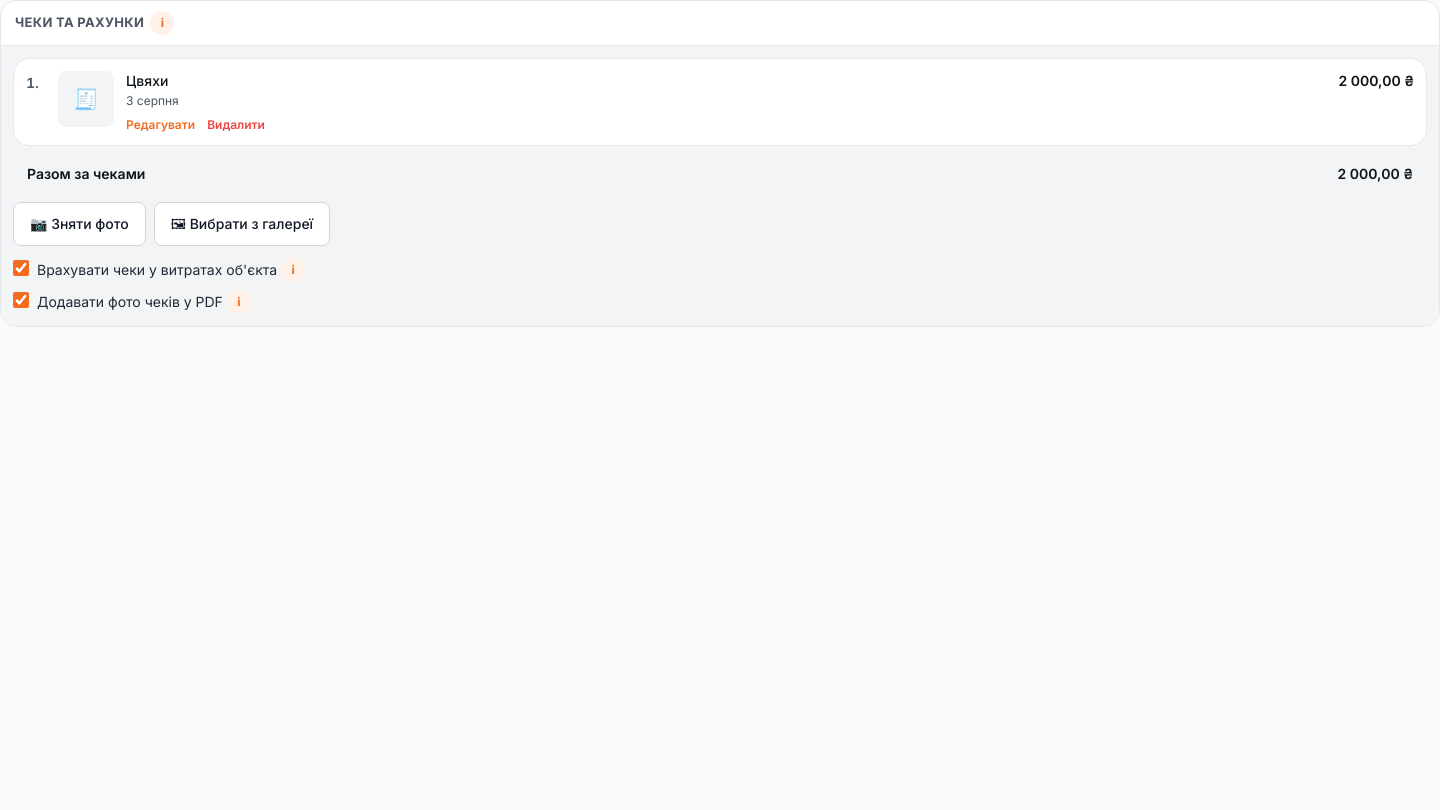
Test: ActReceiptsSection — an unreadable amount is refused, never billed as zero (P-35) › a return that does not read says so, instead of passing the server cap as 0 vs 0
The width and height of the screenshot is (1440, 810).
Step 1. Click the button "Редагувати" → (161, 125), box left=126, top=117, right=195, bottom=133
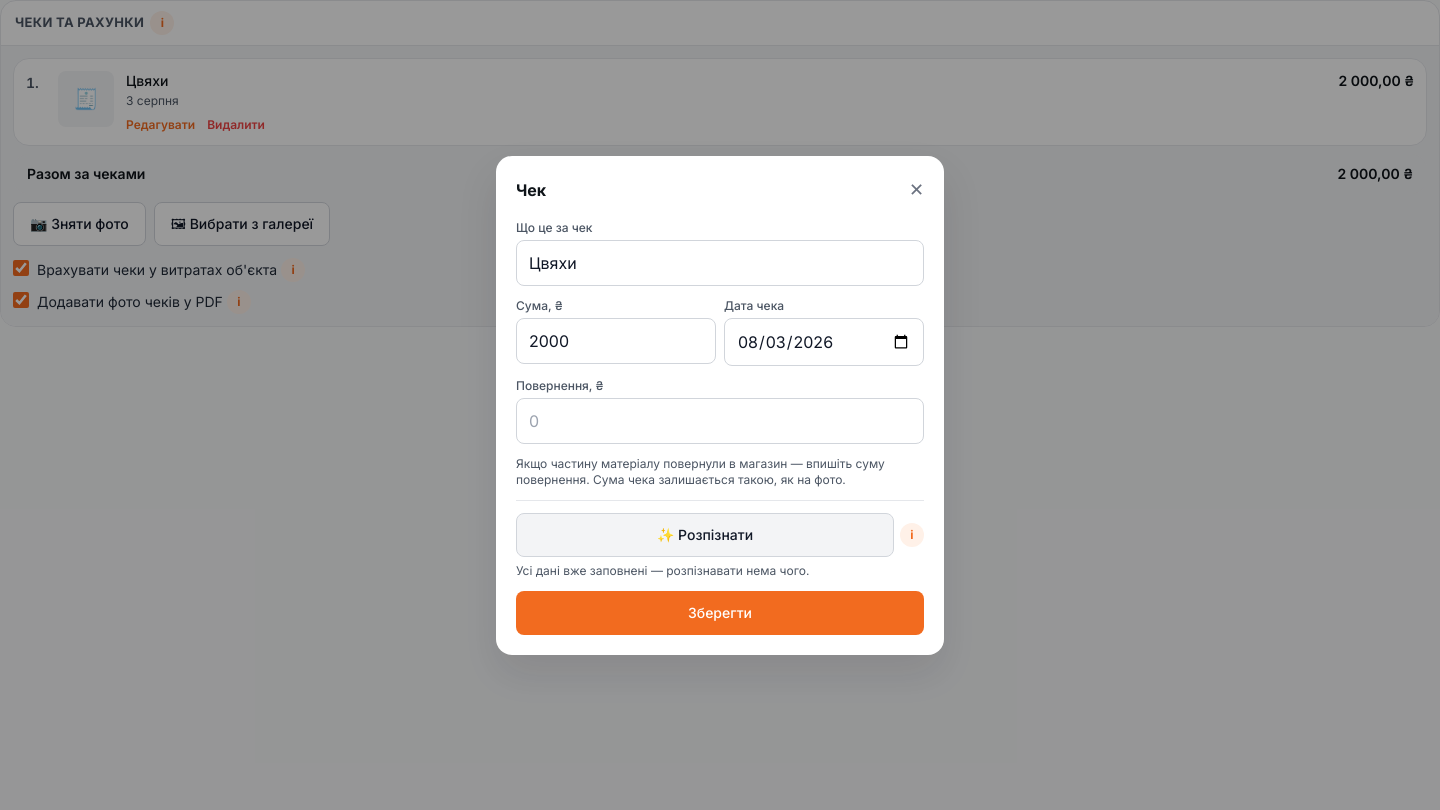
Step 2. Clear the field showing "2000" → (616, 340), box left=516, top=318, right=716, bottom=364
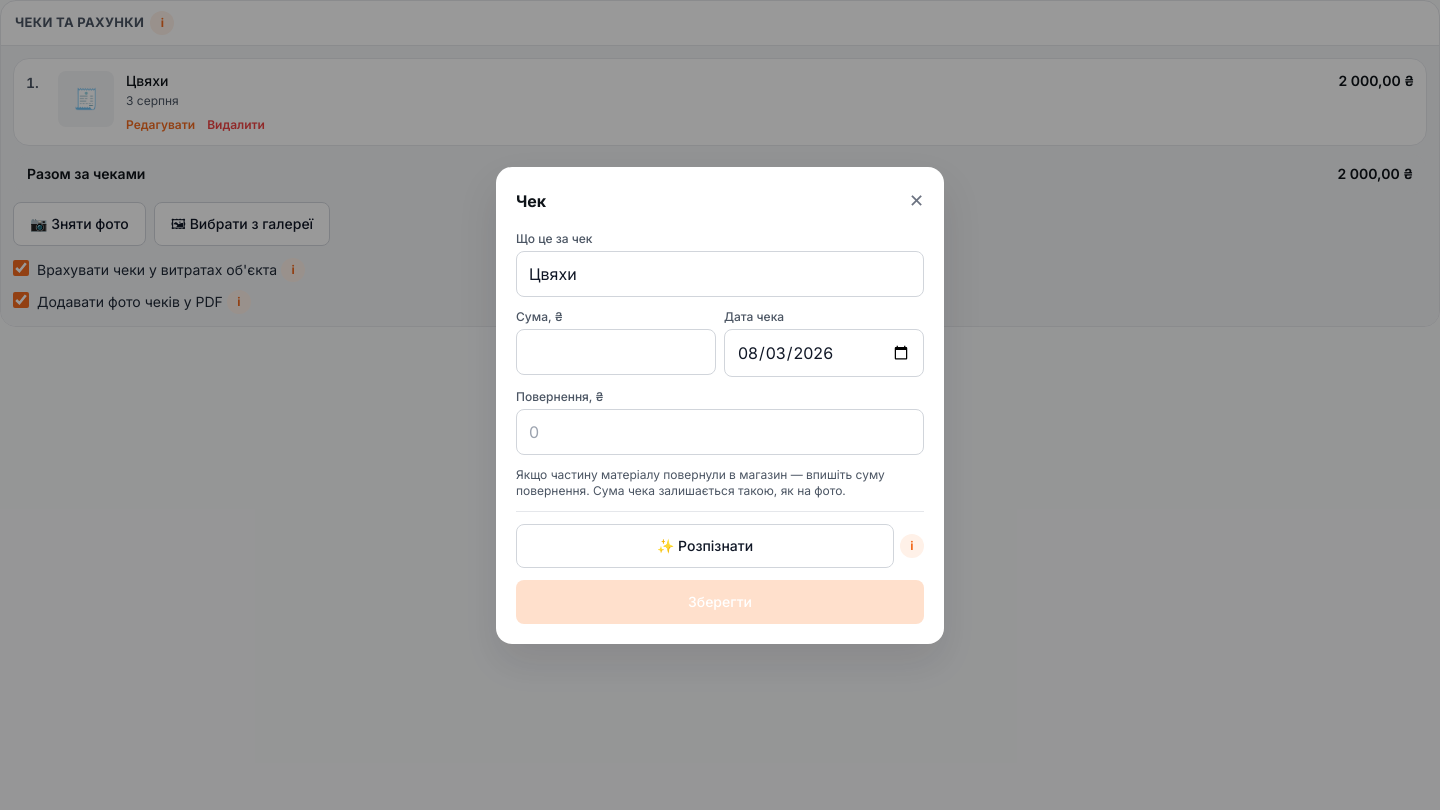
Step 3. Type "5о0" into the field with placeholder "0" → (720, 432), box left=516, top=408, right=924, bottom=454
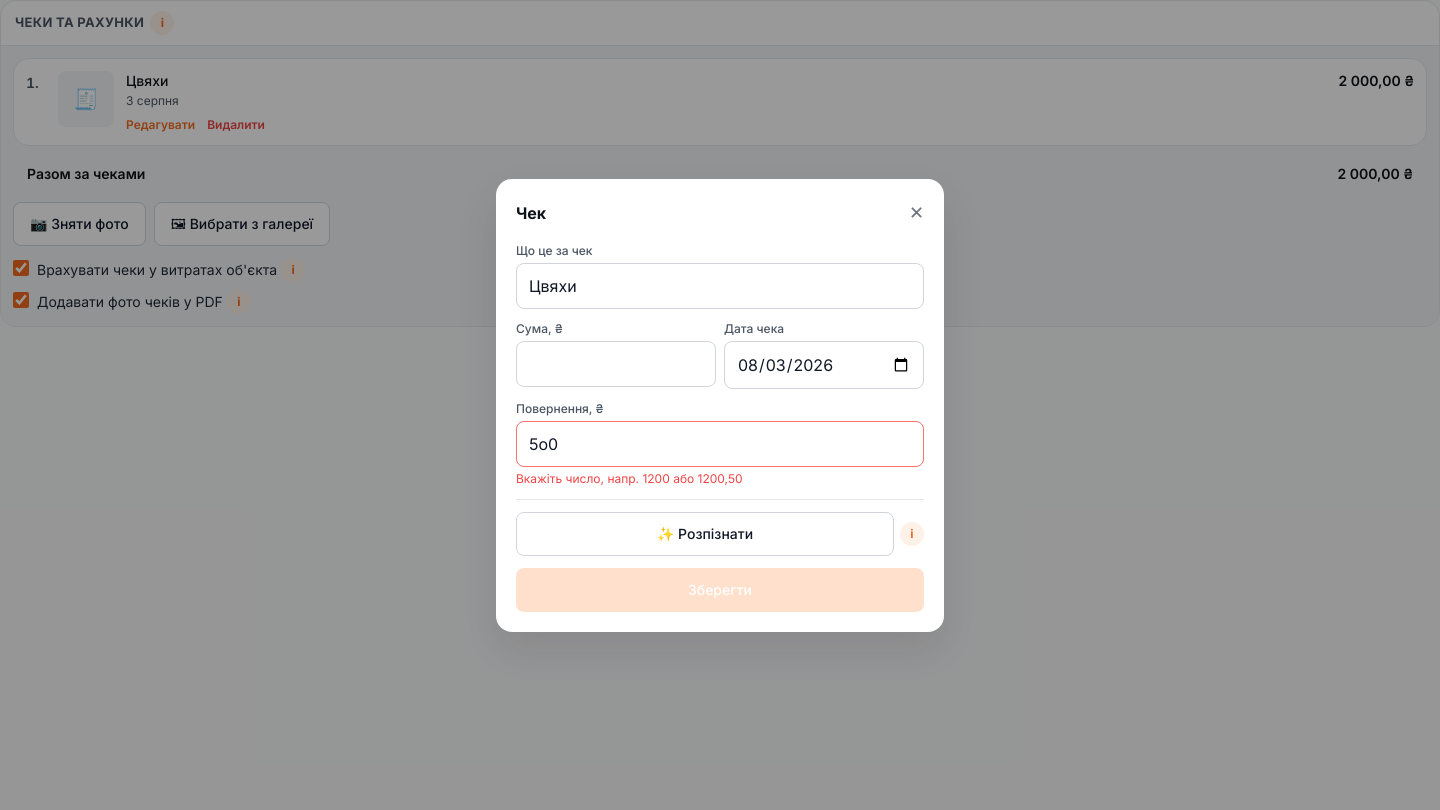
Now the button "Зберегти" is disabled, box left=516, top=568, right=924, bottom=612
Now the text "Вкажіть число, напр. 1200 або 1200,50" is shown, box left=516, top=470, right=743, bottom=486
